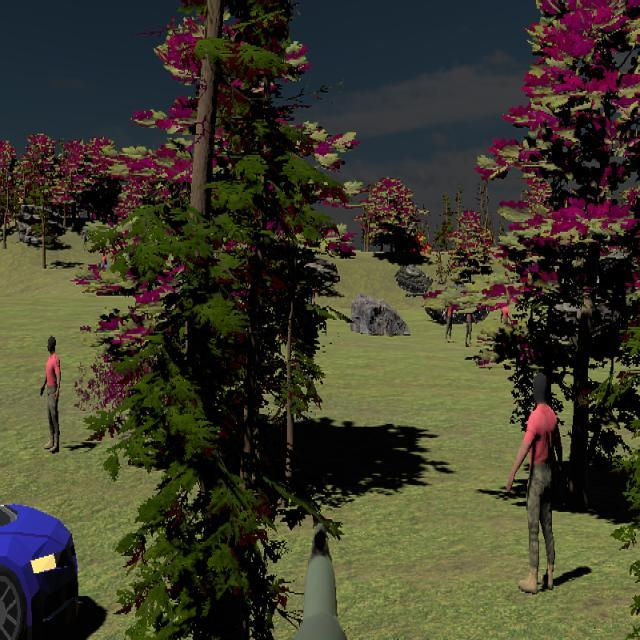Human: (507, 370, 561, 595), (40, 336, 61, 452)
Tank: (405, 283, 490, 325), (395, 264, 444, 293), (395, 264, 443, 293)
car: (0, 497, 80, 638)
